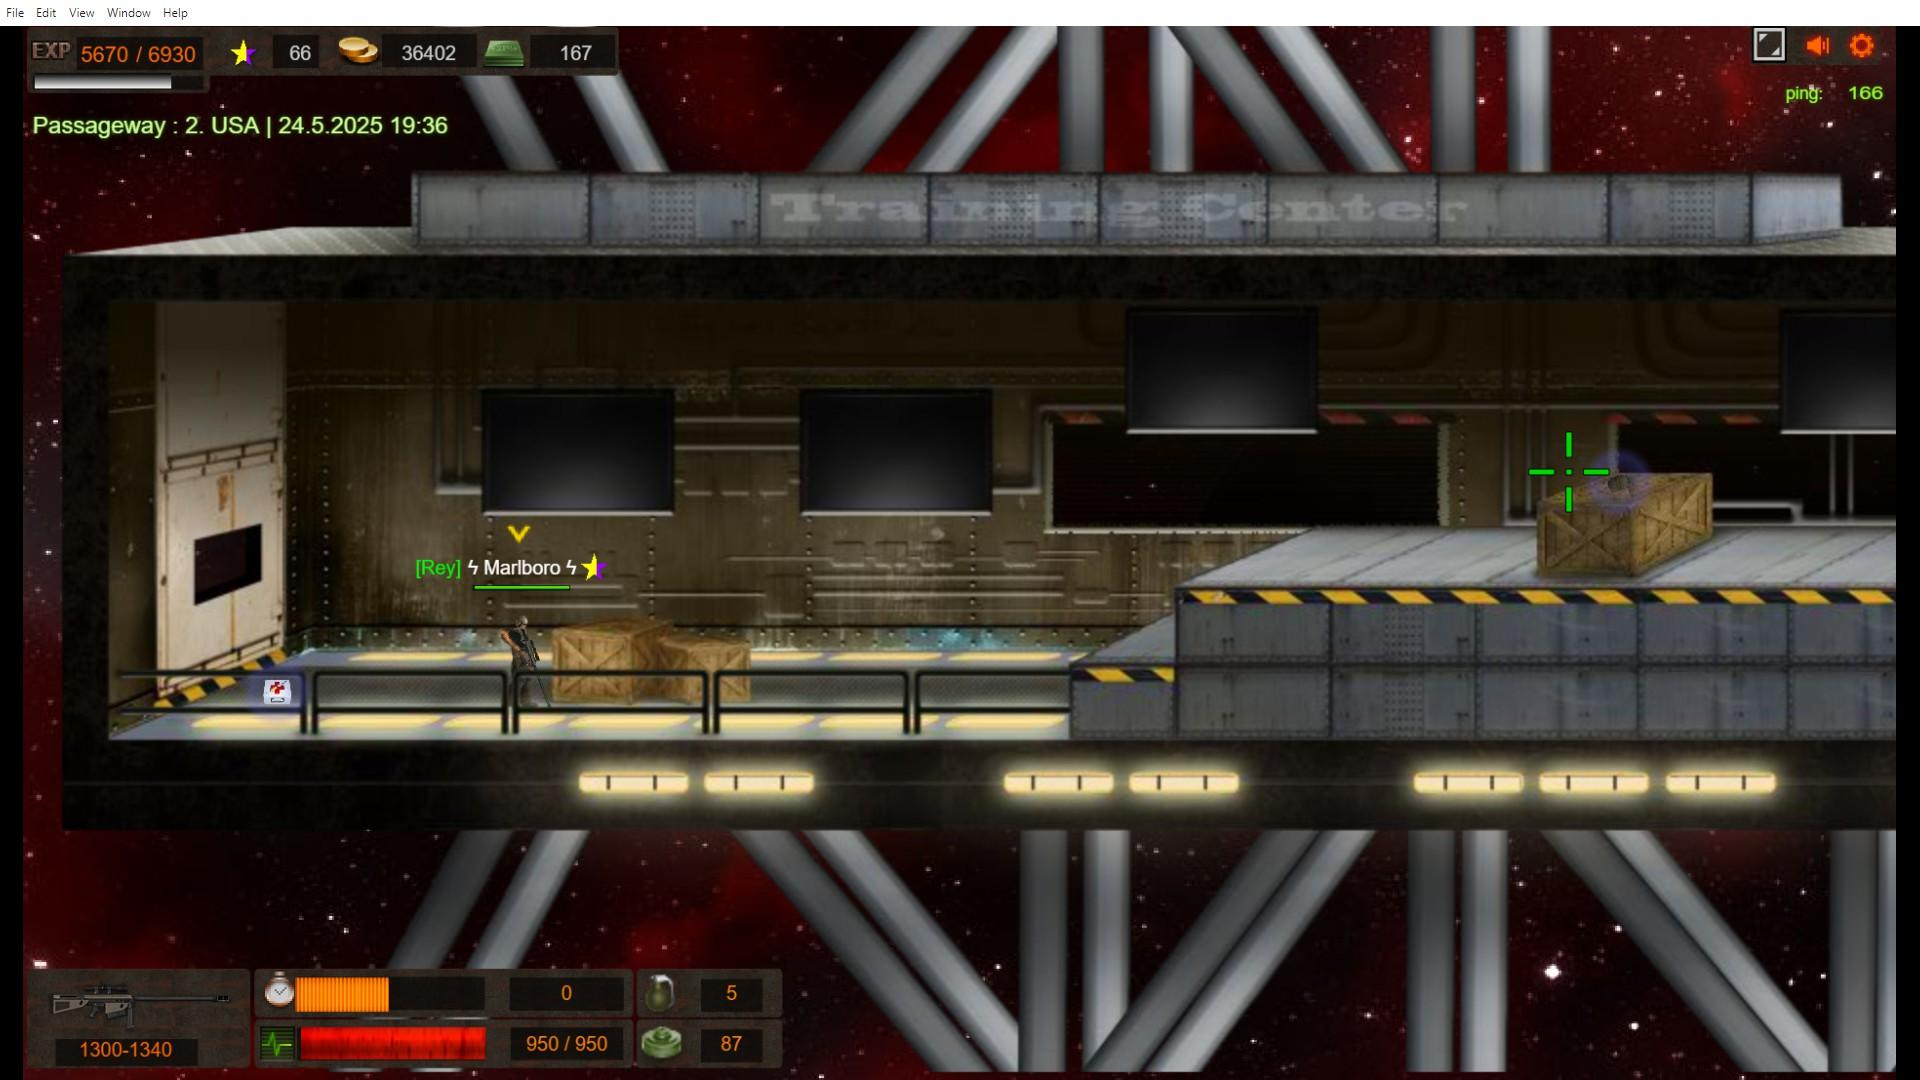enemy: (506, 615, 537, 712)
